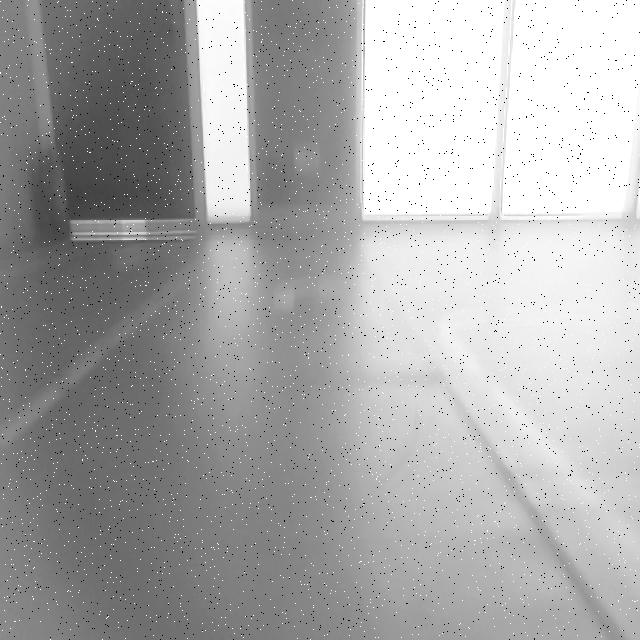left_lane: (0, 262, 202, 454)
right_lane: (421, 304, 640, 586)
